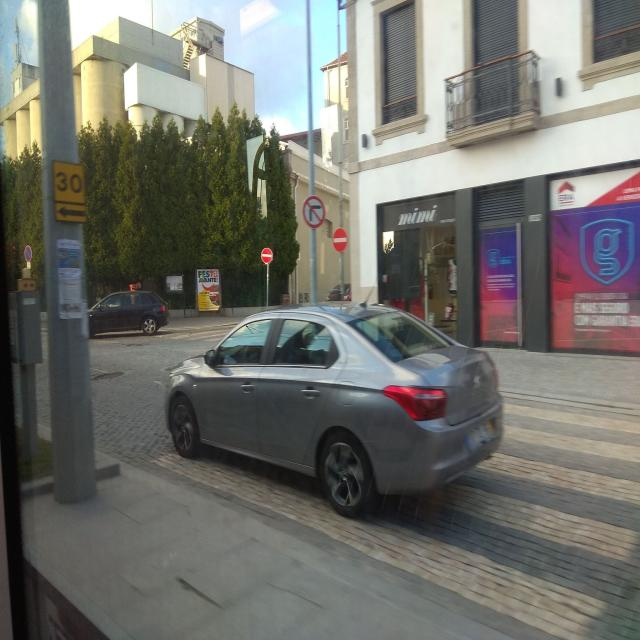forb_stopping: (24, 245, 32, 263)
